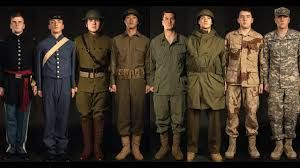uniform: (262, 27, 298, 146), (73, 31, 109, 148), (228, 26, 258, 151)
